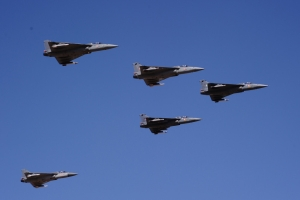flight: (42, 39, 119, 67), (132, 62, 205, 88), (198, 80, 270, 104), (139, 113, 202, 134), (19, 168, 80, 189)
